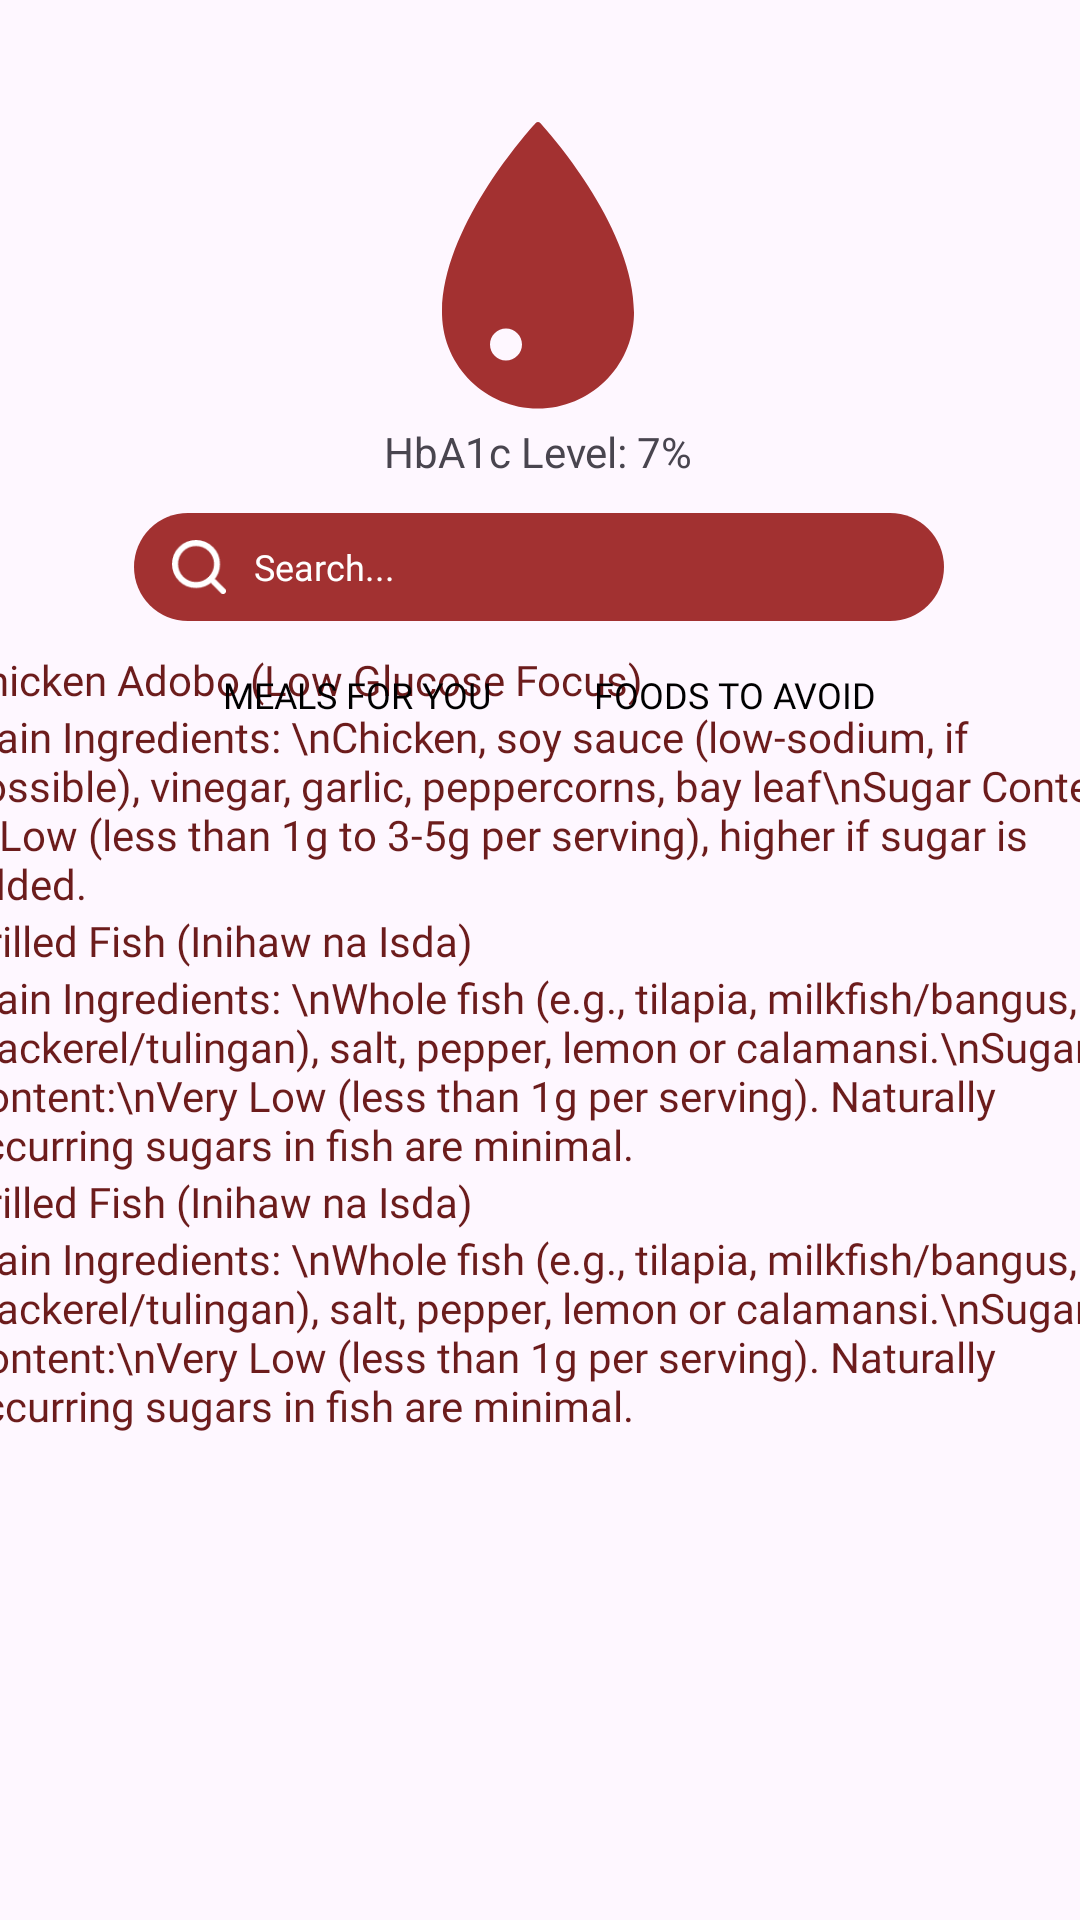

Locate icon controls on the screen. Image size 1080×1920, boxes as (x1, y1, x2, y2).
magnifyingglass: (172, 540, 226, 594)
